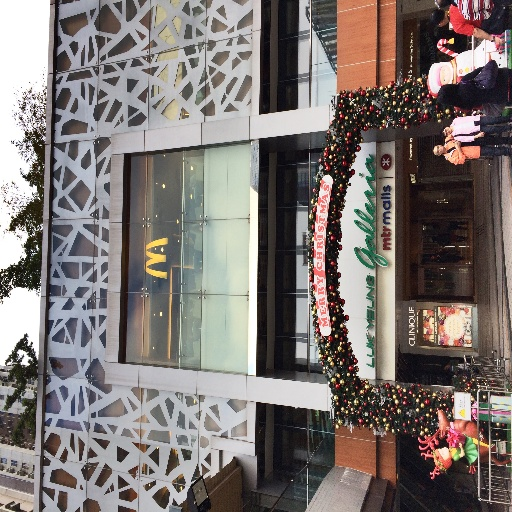hand: (493, 36, 505, 46), (452, 139, 460, 150), (477, 131, 485, 138)
